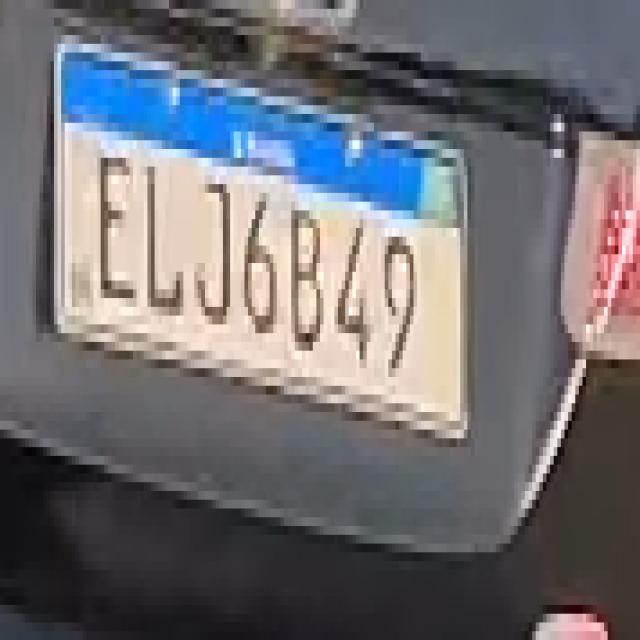Placa_mercosul_carro: (53, 43, 469, 447)
